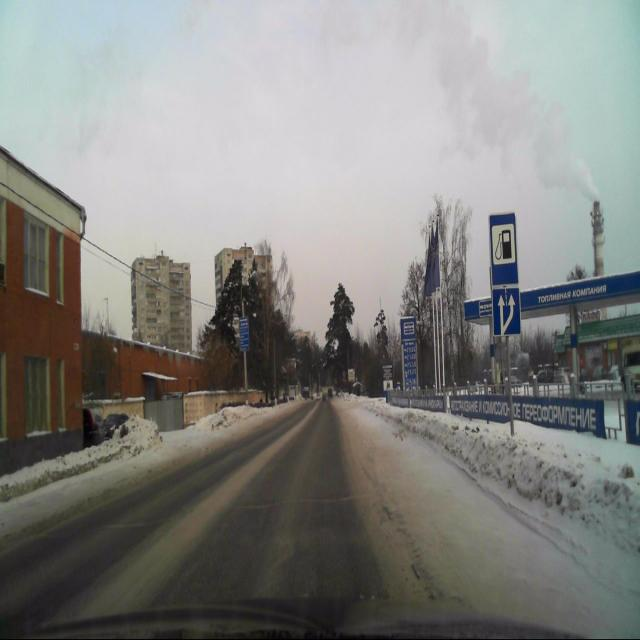object: (506, 339, 516, 440)
road sign: (490, 212, 518, 286), (492, 287, 520, 337)
